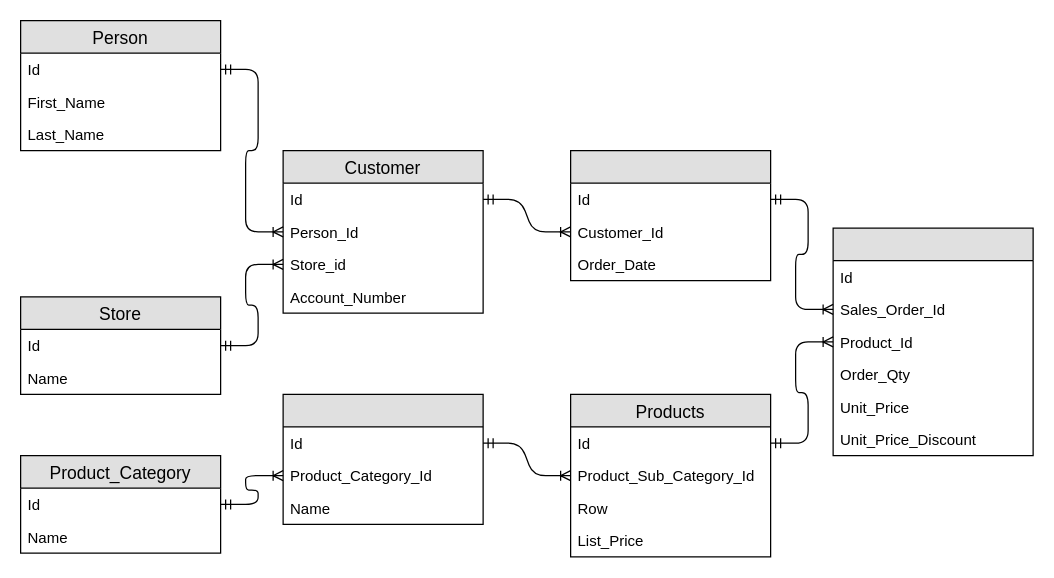
Image size: 1054x578. Some labels were removed from this diagram. Here are the shapes that lost their labels. From the top down, the box of each, then its label:
(569, 149, 771, 281): Sales_Order
(832, 227, 1033, 456): Sales_Order_Detail
(282, 393, 483, 524): Product_Sub_Category
